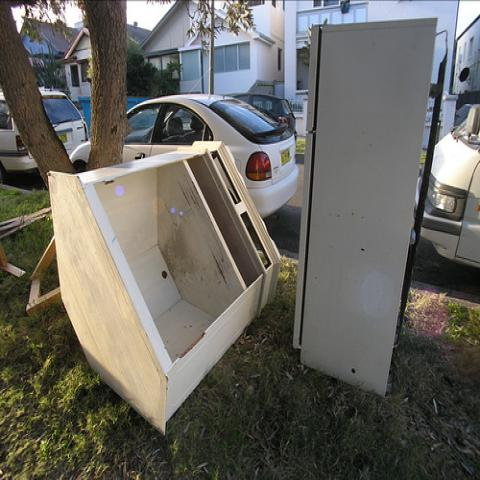car: (70, 93, 300, 222), (0, 86, 91, 185), (234, 94, 298, 147)
truck: (411, 97, 479, 271)
